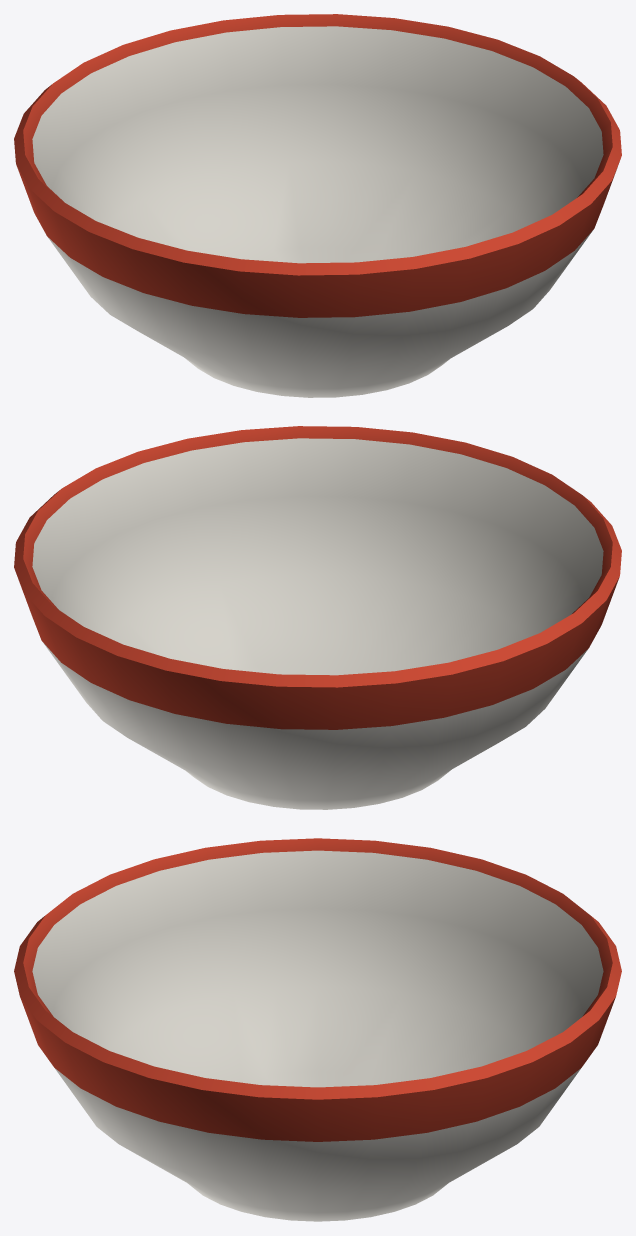
File: kingyo_bowl.glb
3 renders of one model, top to bottom at view 1: azimuth 30°, elevation 25°; view 2: azimuth 150°, elevation 25°; view 3: azimuth 270°, elevation 25°, orthographic.
Visible parts, largest first — view 1: bowl; view 2: bowl; view 3: bowl.
Boxes of the visible parts, <box> form: bowl: <box>14,14,621,397</box>; bowl: <box>14,426,621,809</box>; bowl: <box>14,838,621,1221</box>.
Size of the model in its own units: 0.132 by 0.048 by 0.132.
